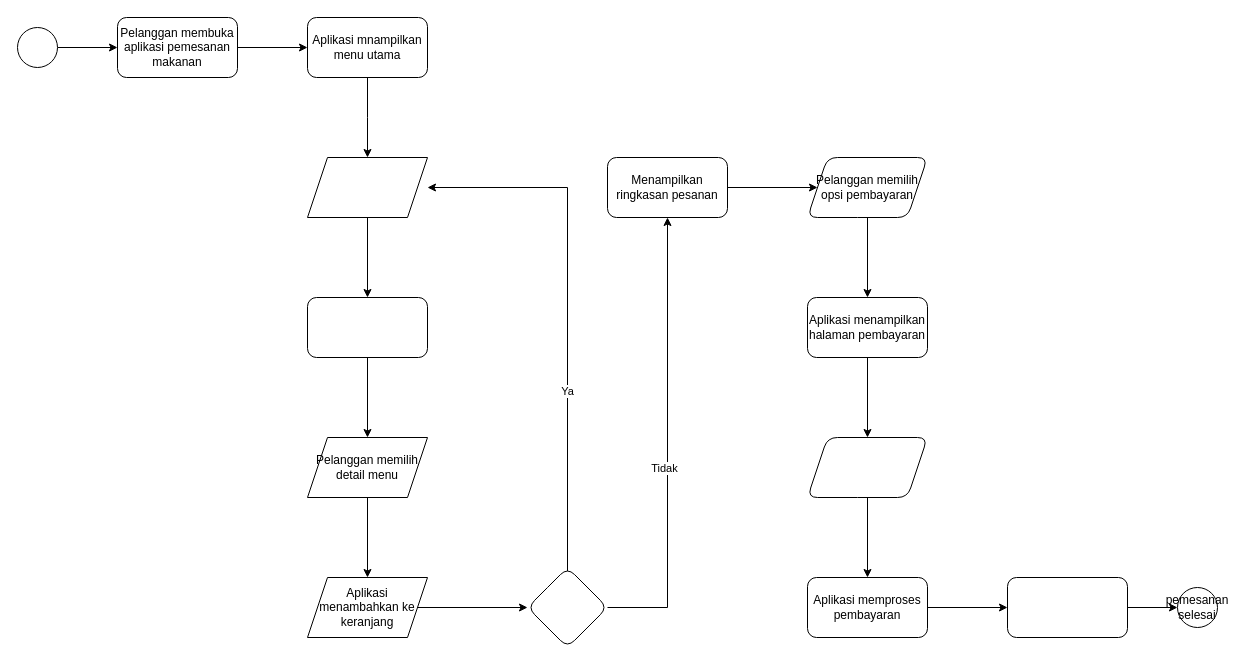
Some shapes in this 1246 by 665 pixel diagram are drawn without their labels. Here are the shapes that lost their labels. From the top down, the centre of each, then its label:
At point 367,187: "Pelanggan memilih menu".
At point 367,327: "Aplikasi menampilkan detail menu".
At point 867,467: "Pelanggan memasukkan informasi pembayaran".
At point 567,607: "Pelanggan melanjutkan pemesanan?".
At point 1067,607: "Aplikasi menampilkan konfirmasi pemesanan".
